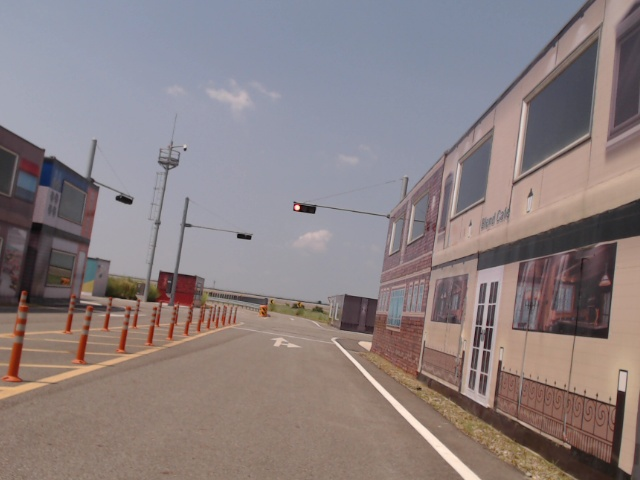red_3: (293, 202, 317, 214)
